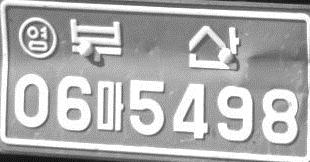0: (12, 72, 49, 128)
4: (172, 82, 209, 140)
5: (129, 79, 165, 135)
6: (56, 75, 91, 133)
8: (261, 87, 299, 144)
9: (216, 86, 254, 142)
마: (96, 78, 125, 132)
부산_D: (69, 18, 240, 71)
영: (17, 16, 58, 59)
